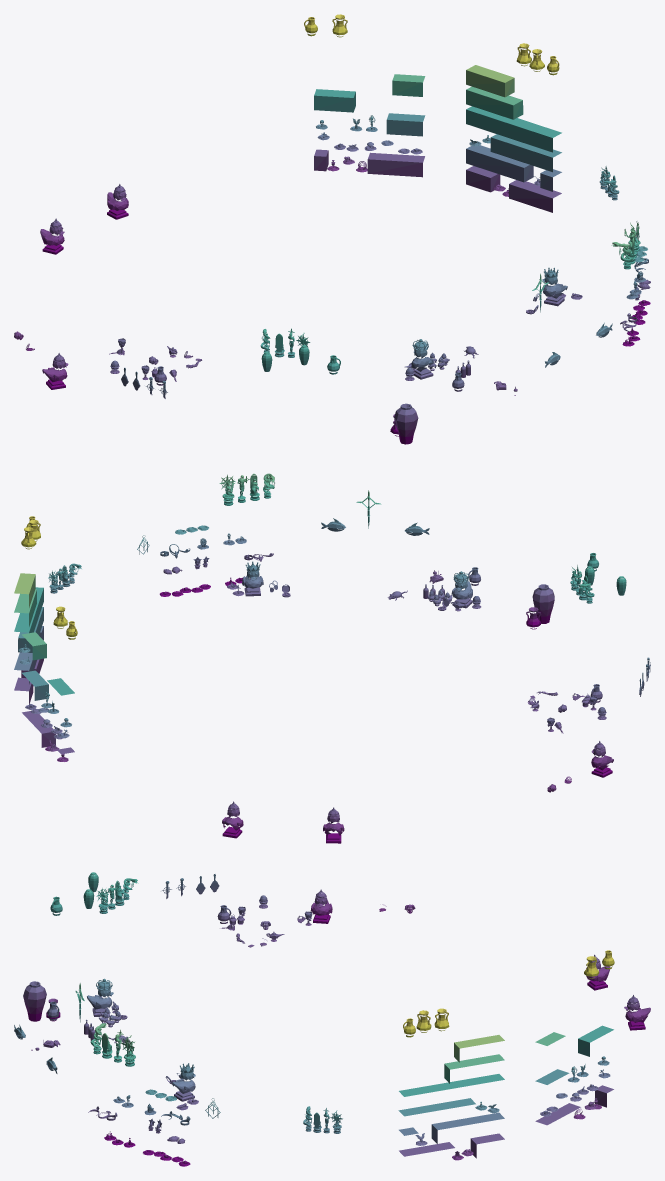
Rendered from 140_GR_ShopIsleOnly.glb.
3 views of the same model, one above another, from view 1: azimuth 30°, elevation 25°; view 2: azimuth 150°, elevation 25°; view 3: azimuth 270°, elevation 25° (orthographic). The views are drawn at different scales.
Visible parts, largest first — view 1: walls, floors; view 2: floors, walls; view 3: floors, walls.
Boxes of the visible parts, left/top/right/bottom form: walls: left=14, top=17, right=650, bottom=444; floors: left=14, top=14, right=650, bottom=431; floors: left=14, top=473, right=650, bottom=841; walls: left=18, top=474, right=650, bottom=843; floors: left=14, top=872, right=650, bottom=1166; walls: left=14, top=874, right=650, bottom=1165.
Size of the model in its own units: 26.31 by 7.33 by 25.65.
